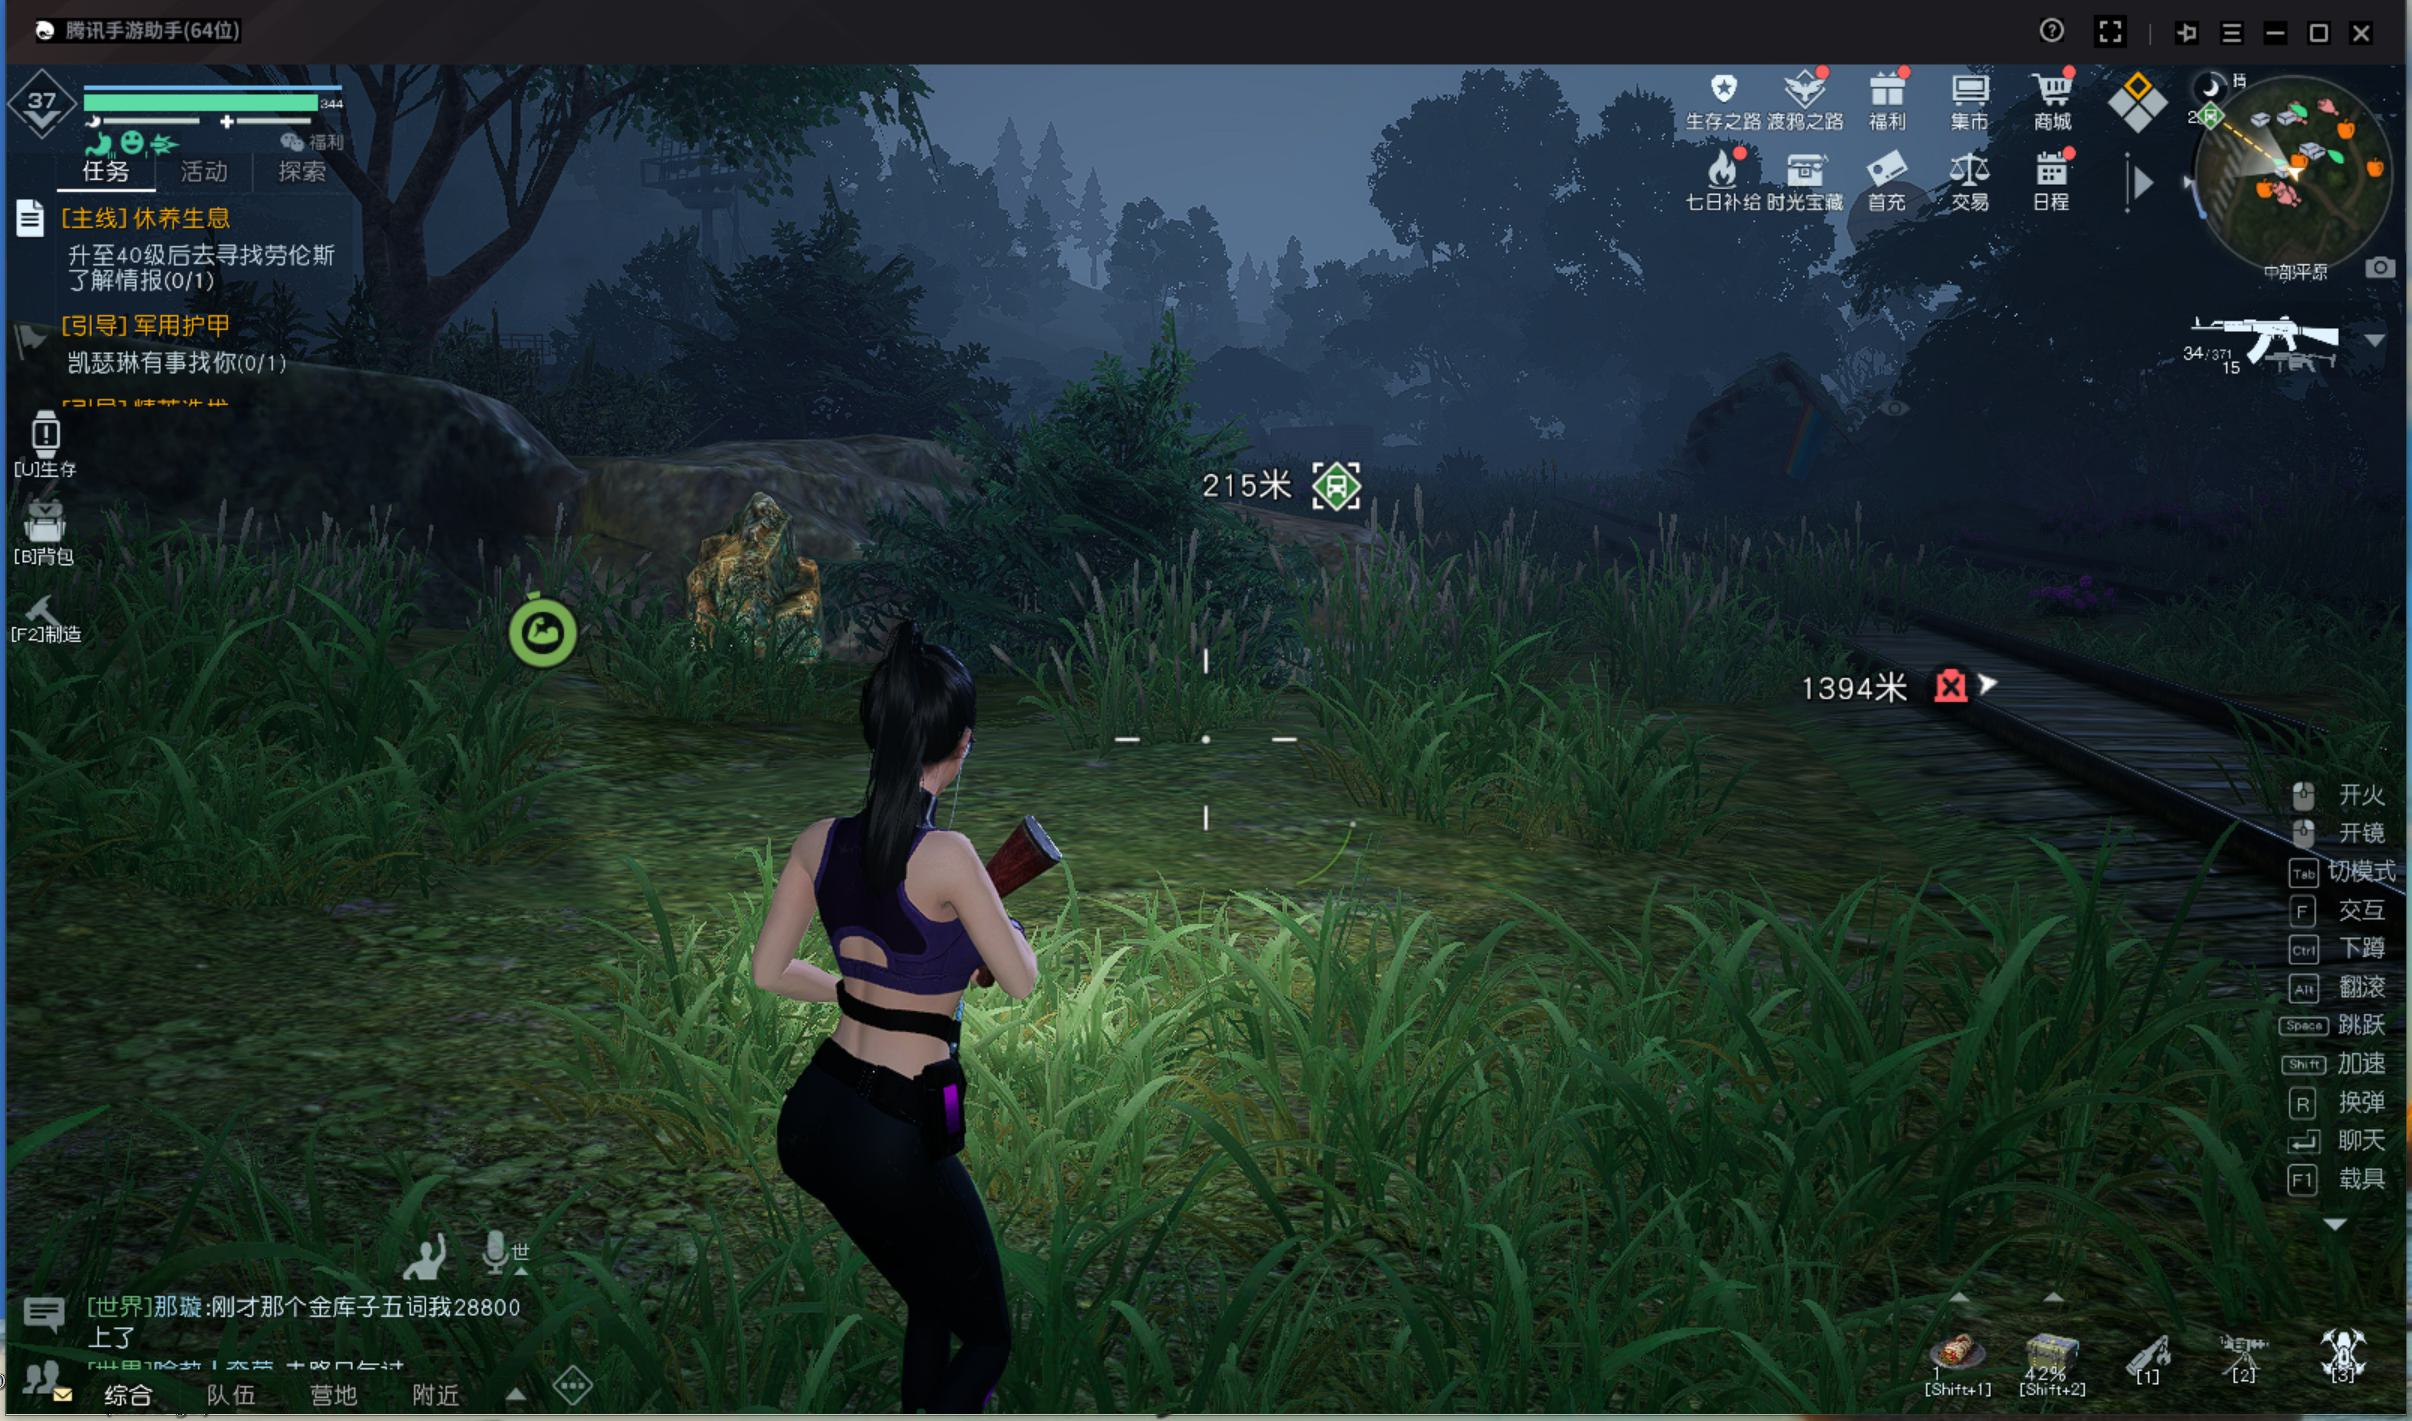stone: (673, 486, 837, 680)
